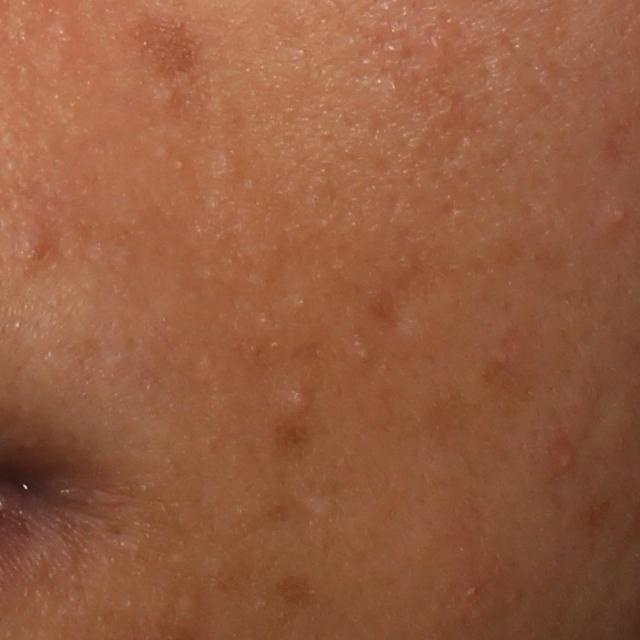comedo: (351, 341, 374, 363), (158, 85, 177, 107)
papule: (16, 229, 54, 264)
